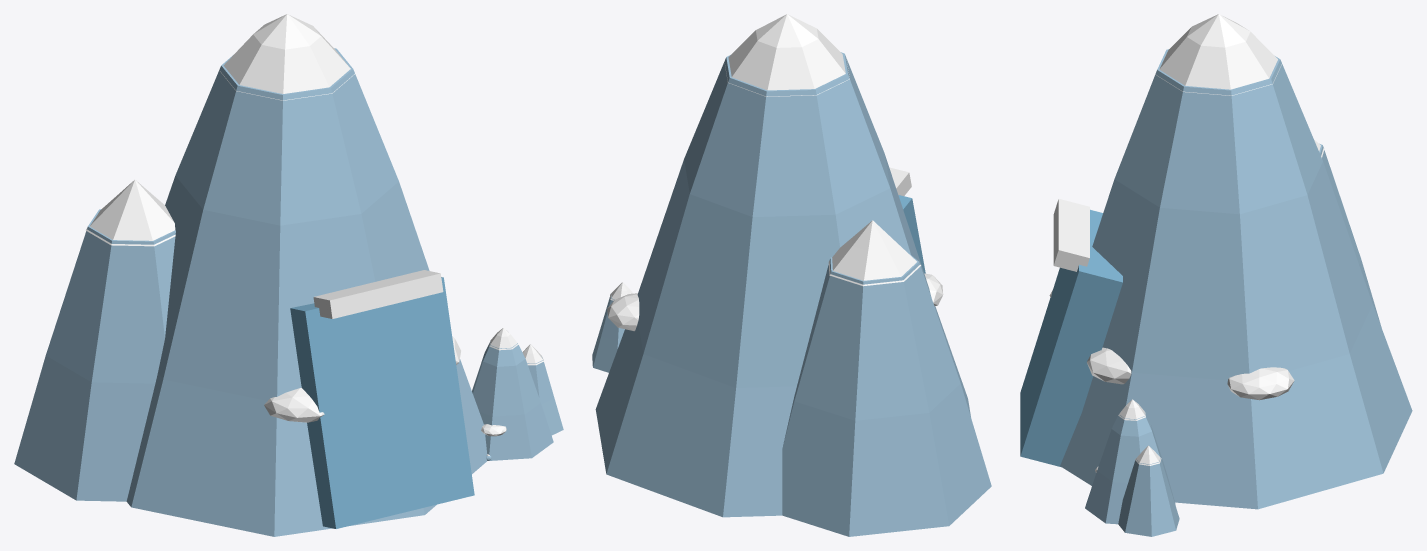
Rendered from ice-g3.glb.
3 renders of one model, left to right at view 1: azimuth 30°, elevation 25°; view 2: azimuth 150°, elevation 25°; view 3: azimuth 270°, elevation 25°, orthographic. The views are drawn at different scales.
Parts seen in each view (by area): view 1: ice-g3; view 2: ice-g3; view 3: ice-g3.
Part boxes in pixels (x1=…): ice-g3: x1=14, y1=14, x2=563, y2=536; ice-g3: x1=592, y1=14, x2=991, y2=536; ice-g3: x1=1020, y1=14, x2=1412, y2=536.
Bounding box in the file's own units: 4.94 × 4.52 × 3.87.
